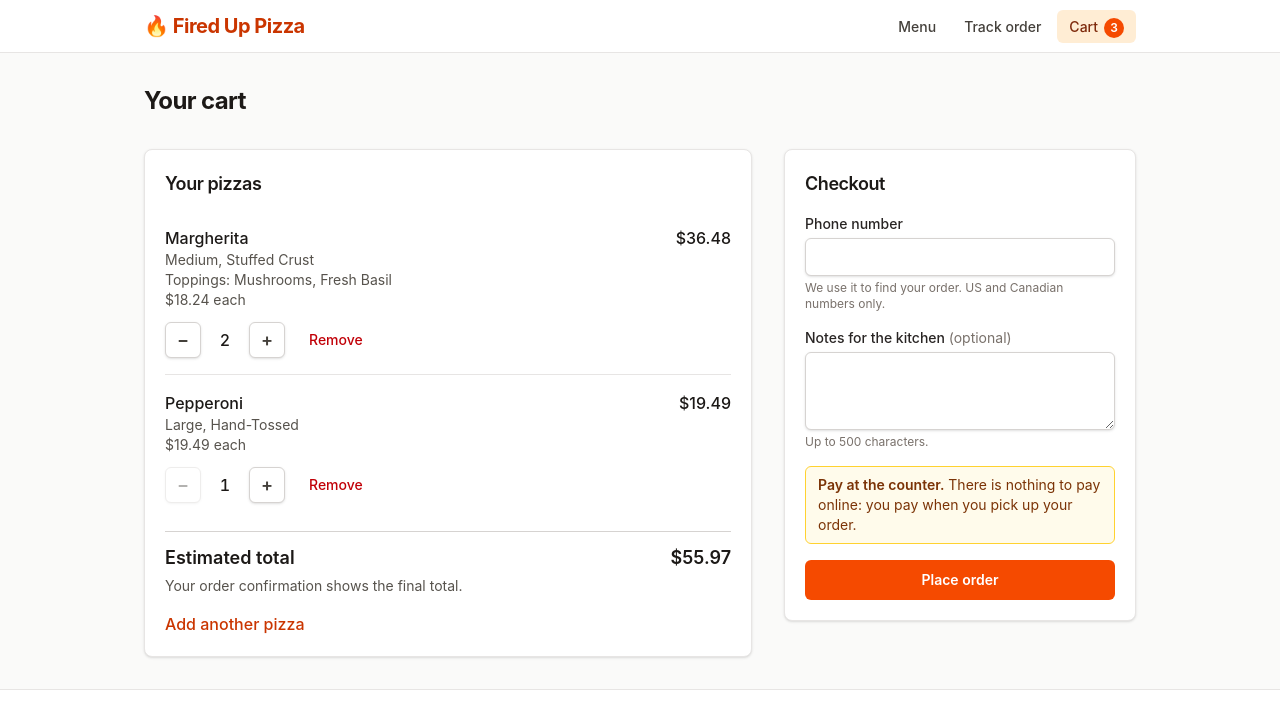
Test: CartPage › checkout form › asks for the phone number before sending anything
The image size is (1280, 708).
Click the button "Place order": [960, 580] box [805,560,1115,600]
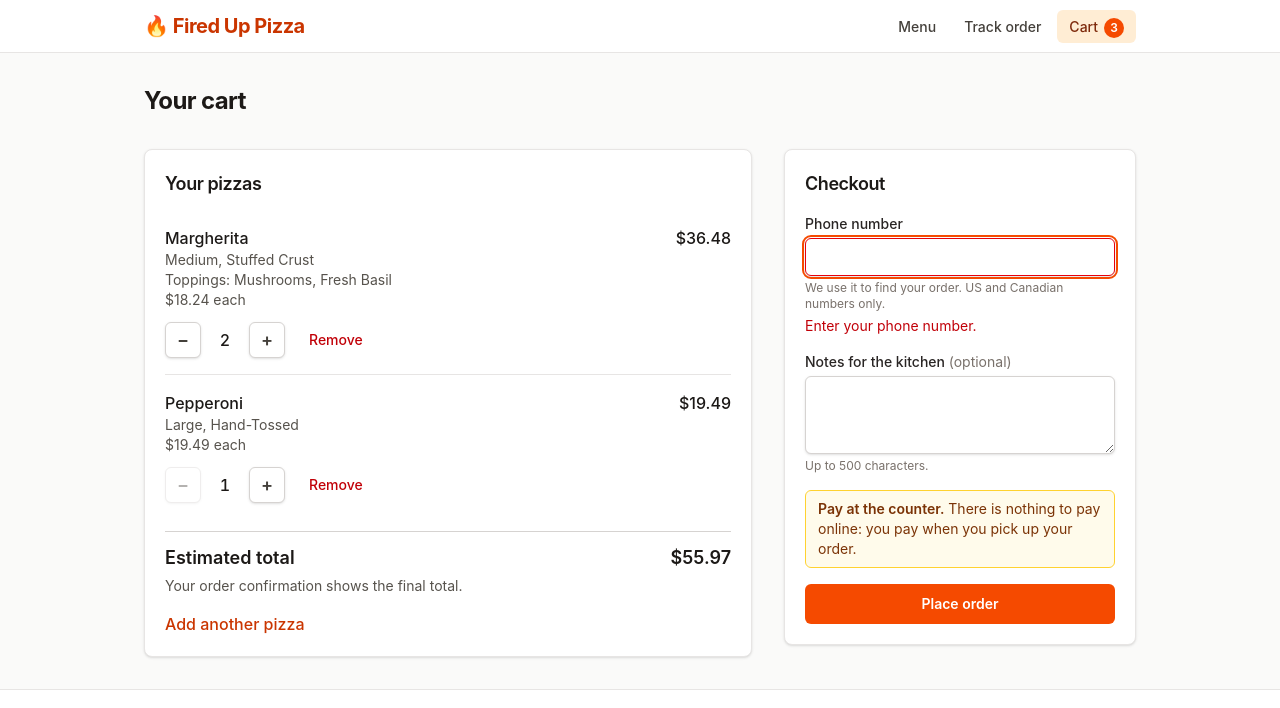
Check: the link with aria-label "Cart, 3 items" is shown, box [1057,10,1136,43]
Check: the text "Enter your phone number." is shown, box [805,317,977,334]
